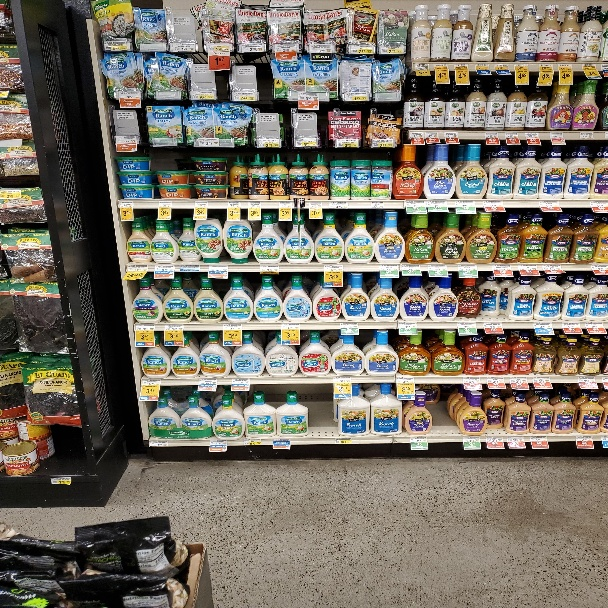All PRICE TAGS: (345, 91, 369, 101), (381, 44, 405, 53), (311, 43, 334, 52), (297, 92, 319, 101), (239, 43, 263, 51), (0, 191, 21, 200), (405, 200, 427, 208), (273, 44, 295, 52), (197, 138, 219, 146), (50, 477, 71, 485), (116, 135, 137, 143), (258, 139, 279, 147), (538, 200, 560, 207), (336, 139, 358, 146), (324, 264, 343, 272), (209, 264, 228, 272), (354, 42, 373, 50), (259, 265, 280, 272), (172, 41, 193, 48), (209, 46, 230, 53), (164, 323, 184, 330), (135, 323, 155, 330), (561, 321, 581, 328), (401, 264, 421, 271), (457, 321, 477, 328), (395, 376, 415, 383), (116, 92, 139, 98), (331, 201, 348, 209), (198, 378, 217, 385), (142, 378, 161, 385), (281, 322, 300, 329), (577, 376, 596, 383), (428, 201, 447, 208), (398, 321, 417, 328), (482, 201, 504, 207), (538, 63, 554, 71), (341, 321, 359, 328), (223, 323, 241, 330), (380, 264, 398, 271), (179, 265, 200, 271), (457, 265, 478, 271), (532, 376, 550, 383), (463, 436, 481, 443), (410, 436, 428, 443), (542, 264, 562, 270), (455, 201, 475, 207), (514, 63, 529, 71), (533, 322, 553, 328), (227, 201, 242, 209), (307, 201, 322, 209), (244, 438, 261, 445), (210, 439, 227, 446), (590, 199, 607, 206), (333, 377, 352, 383), (128, 264, 147, 270), (585, 322, 604, 328), (428, 265, 447, 271), (483, 322, 502, 328), (591, 263, 607, 270), (278, 201, 294, 208), (233, 378, 251, 384), (156, 265, 174, 271), (510, 377, 528, 383), (487, 377, 505, 383), (334, 438, 352, 444), (504, 132, 519, 139), (582, 63, 597, 70), (558, 64, 573, 71), (475, 63, 490, 70), (434, 64, 449, 71), (415, 63, 430, 70), (375, 138, 390, 145), (158, 201, 173, 208), (273, 439, 290, 445), (151, 440, 168, 446), (507, 436, 524, 442), (492, 265, 512, 270), (370, 201, 384, 208), (580, 132, 594, 139), (550, 132, 564, 139), (525, 132, 539, 139), (444, 131, 458, 138), (410, 131, 424, 138), (455, 64, 469, 71), (120, 201, 134, 208), (194, 201, 208, 208), (248, 201, 262, 208), (462, 377, 481, 382), (575, 436, 593, 441), (495, 64, 510, 70), (518, 265, 536, 270), (530, 436, 548, 441), (486, 437, 503, 442), (426, 132, 439, 138), (485, 133, 499, 138), (600, 435, 608, 441)
